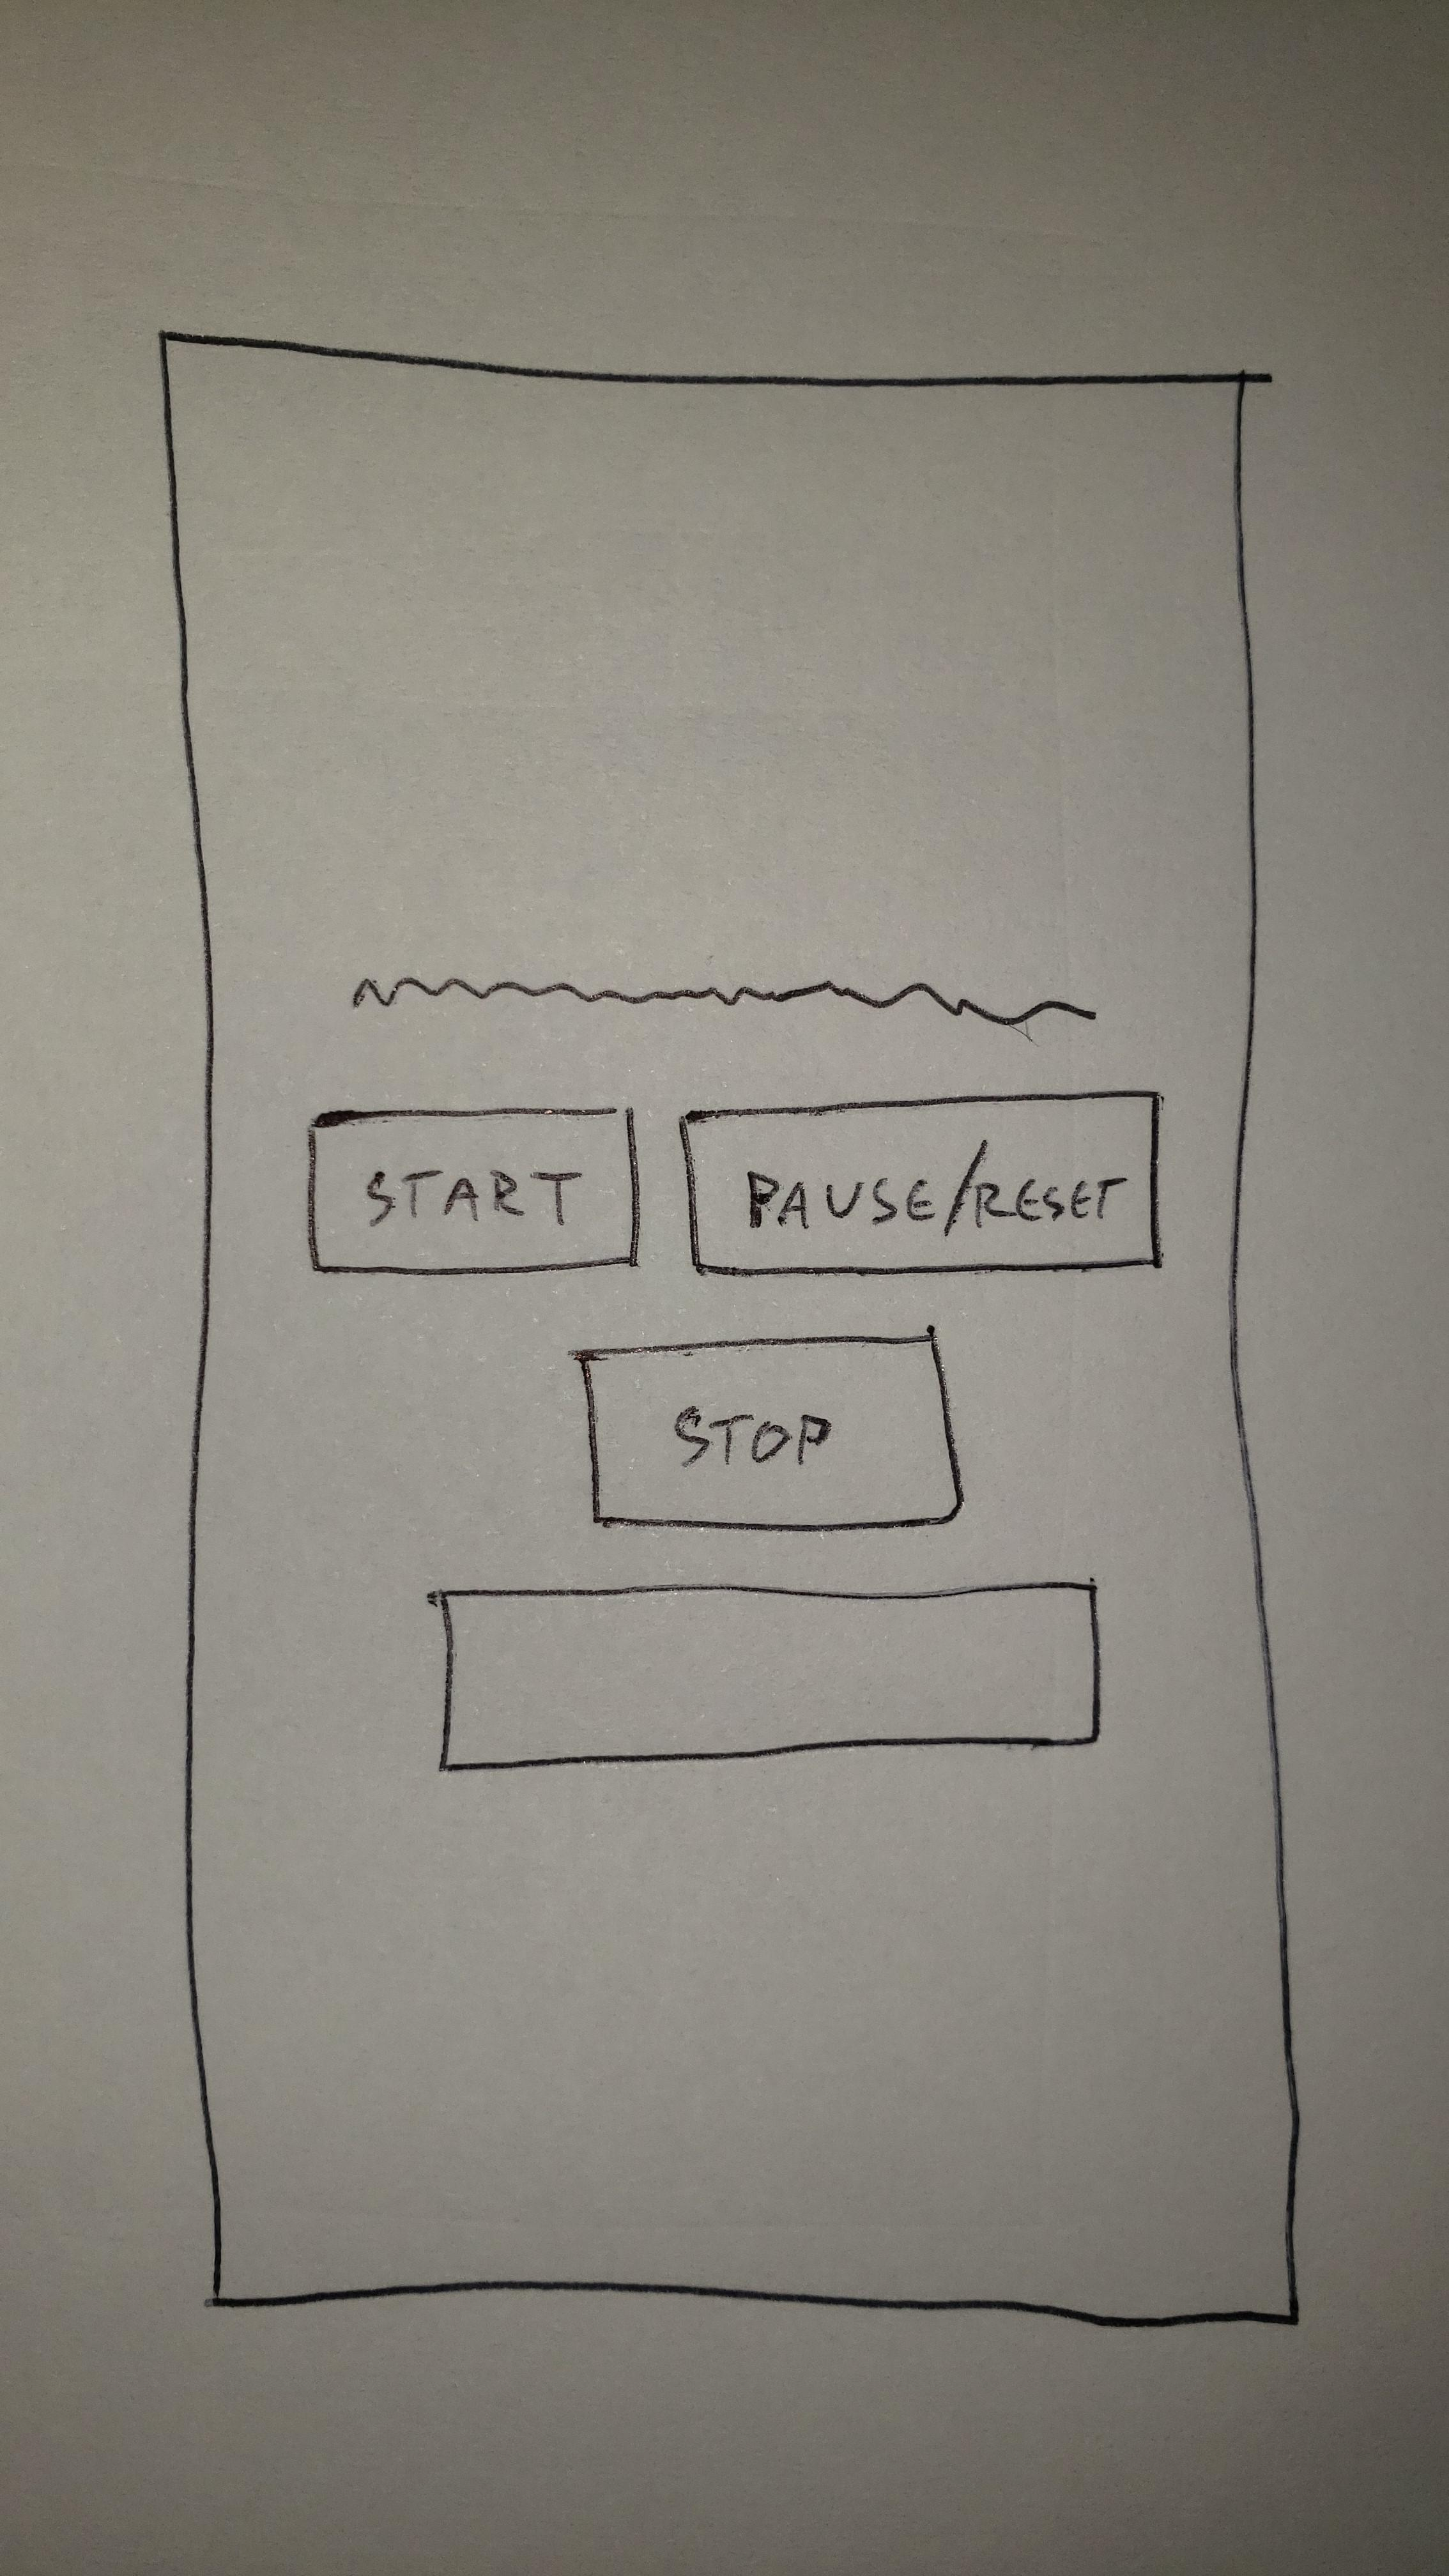Button: (679, 1090, 1161, 1277), (584, 1334, 968, 1529), (310, 1104, 640, 1274)
Label: (350, 973, 1099, 1024)
Screen: (159, 329, 1300, 2328)
TextBox: (437, 1580, 1104, 1773)
